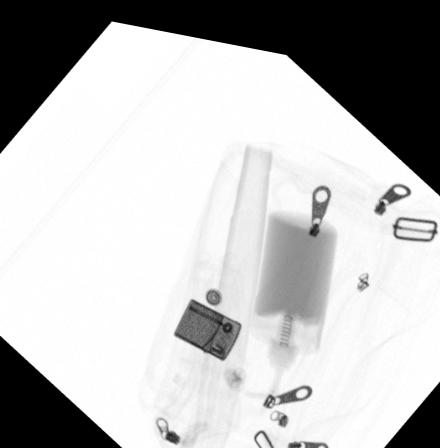Lighter: (170, 289, 240, 352)
